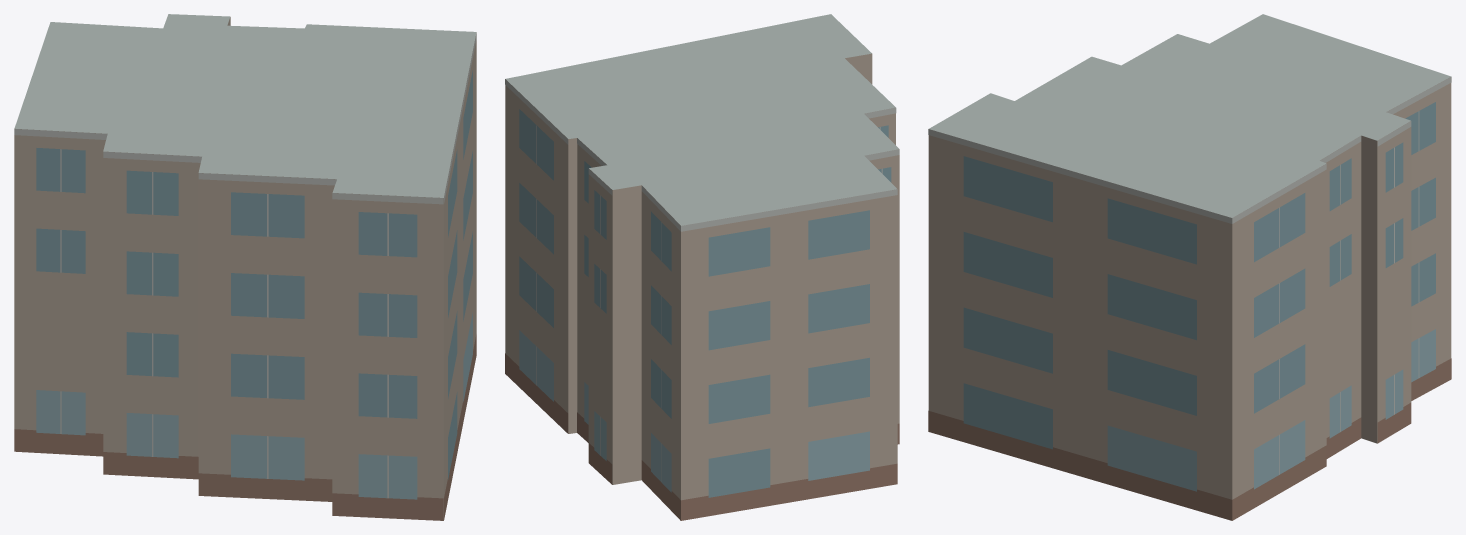
File: survey-upis-33025783.glb
The picture shows the model from 3 angles, left to right: view 1: azimuth 30°, elevation 25°; view 2: azimuth 150°, elevation 25°; view 3: azimuth 270°, elevation 25°; orthographic projection. The views are drawn at different scales.
Visible parts, largest first — view 1: survey-upis-33025783.tmp; view 2: survey-upis-33025783.tmp; view 3: survey-upis-33025783.tmp.
Boxes of the visible parts, left/top/right/bottom form: survey-upis-33025783.tmp: left=14, top=14, right=476, bottom=520; survey-upis-33025783.tmp: left=505, top=14, right=899, bottom=520; survey-upis-33025783.tmp: left=928, top=14, right=1451, bottom=520.
Size of the model in its own units: 17.78 by 12.3 by 19.26.
